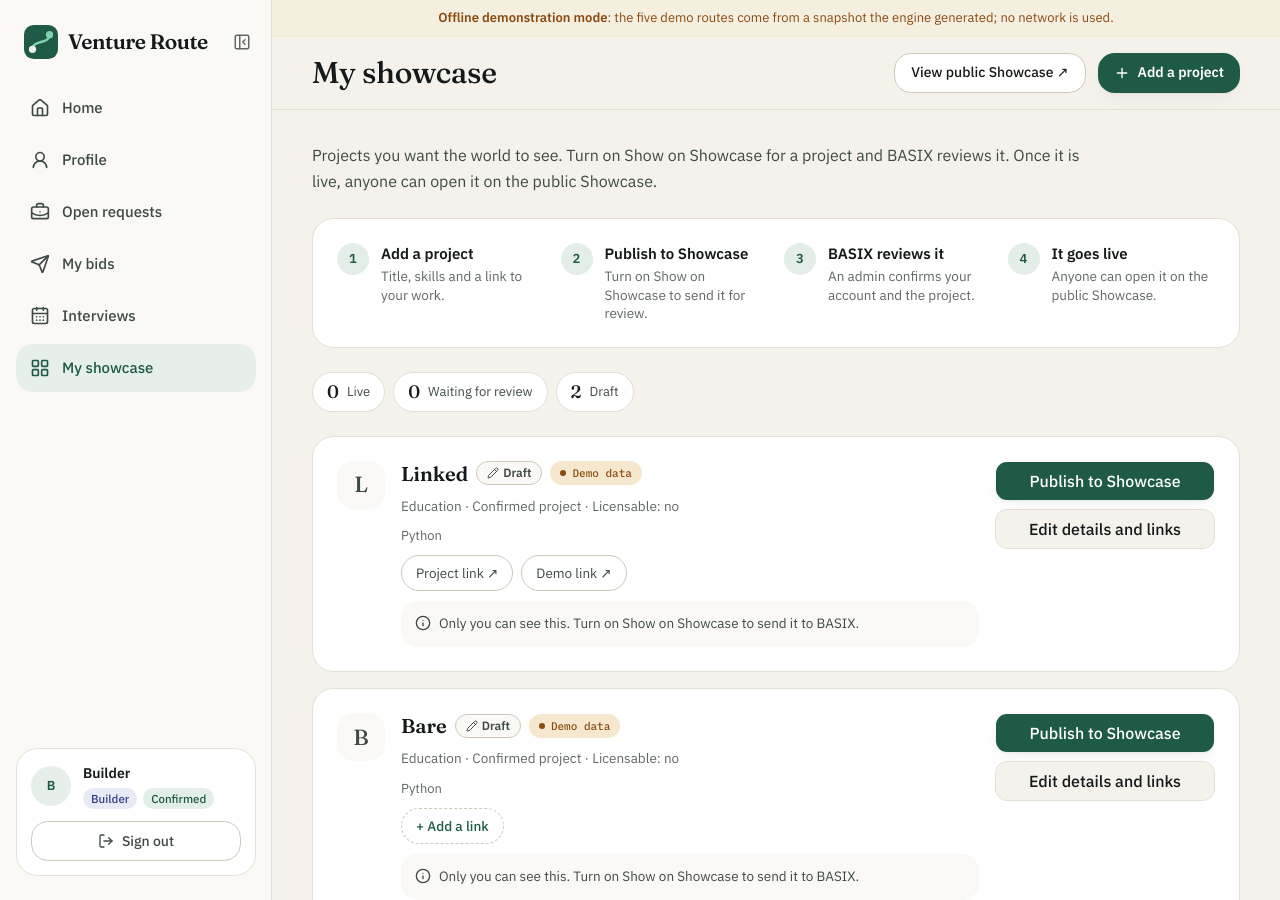
/my-showcase › shows saved links as safe external links, or + Add a link that opens the editor
This screenshot has width=1280, height=900.
Click the button "+ Add a link" at (452, 826), box [401, 808, 504, 844]
(page scrolled)
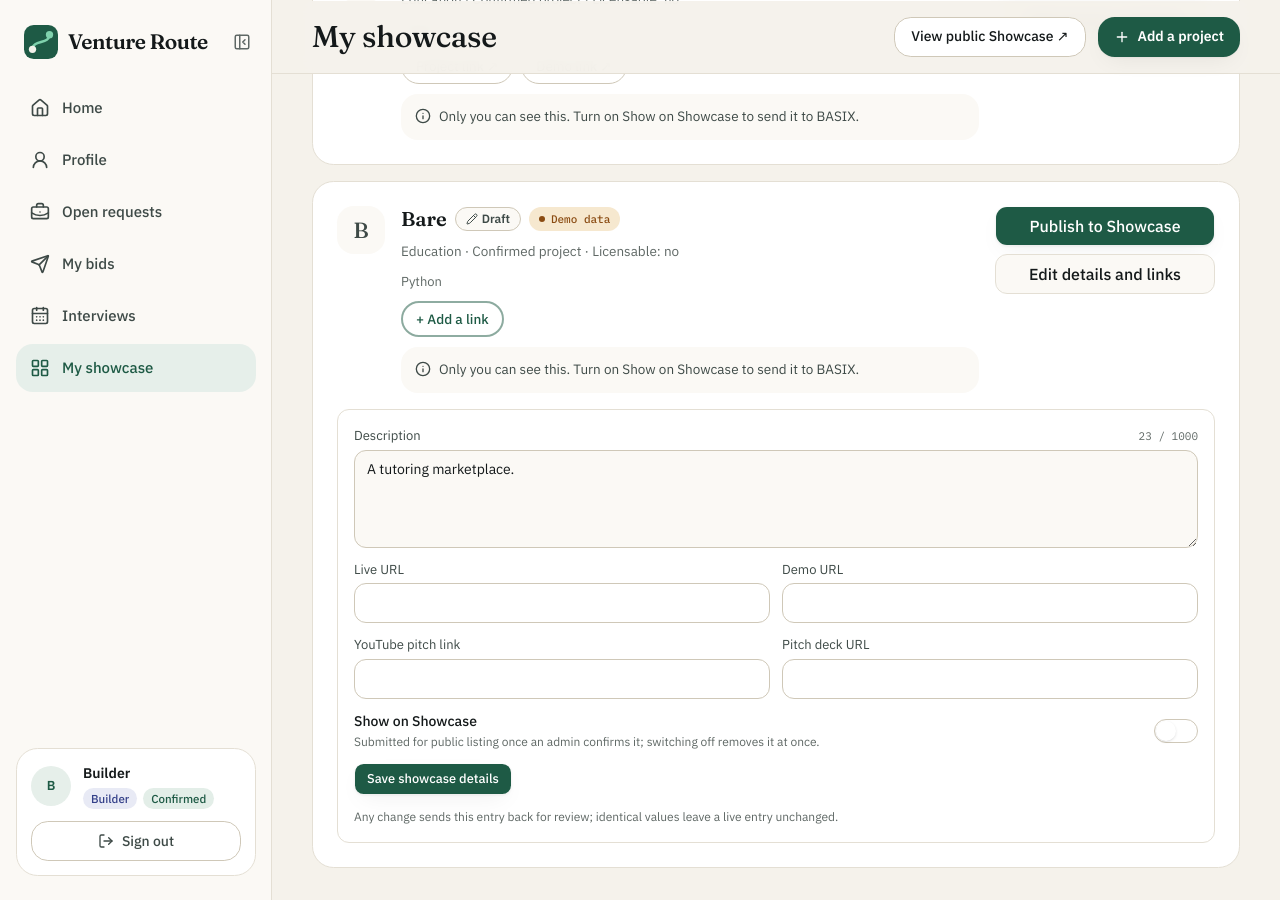
Check: the form named "Showcase details for Bare" is shown, box [337, 409, 1215, 843]
